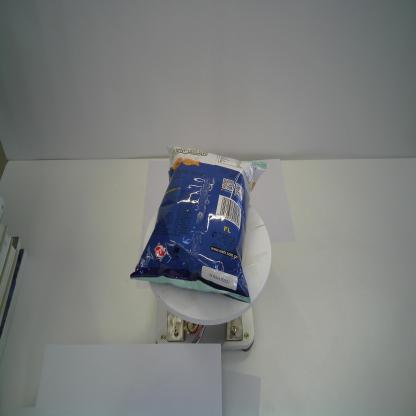Puffed Food: (129, 142, 268, 304)
